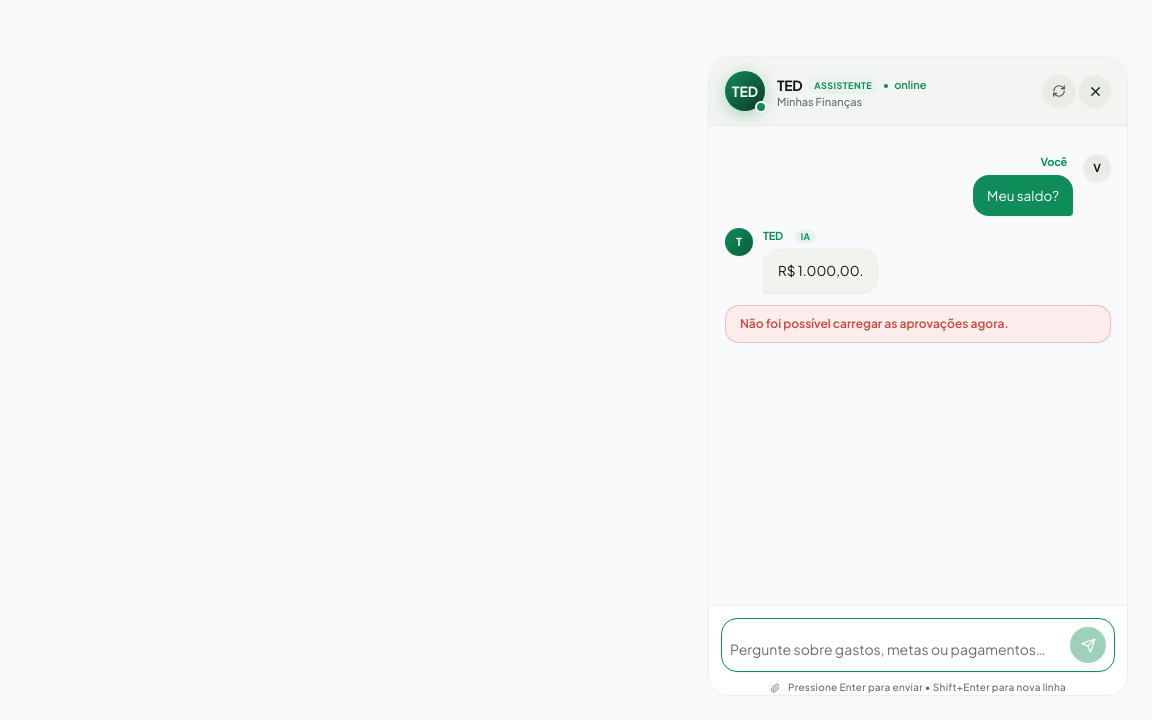
Test: TedChat — sessão renovável e memória (Parte B) › mostra erro seguro quando a renovação falha
Expected: the text "Meu saldo?" is shown, left=987, top=184, right=1059, bottom=206
What coordinates should you click on to do the following:
click the button named "nova sessão"
I would click on:
 (1059, 91)
Its box is left=1043, top=75, right=1075, bottom=107.
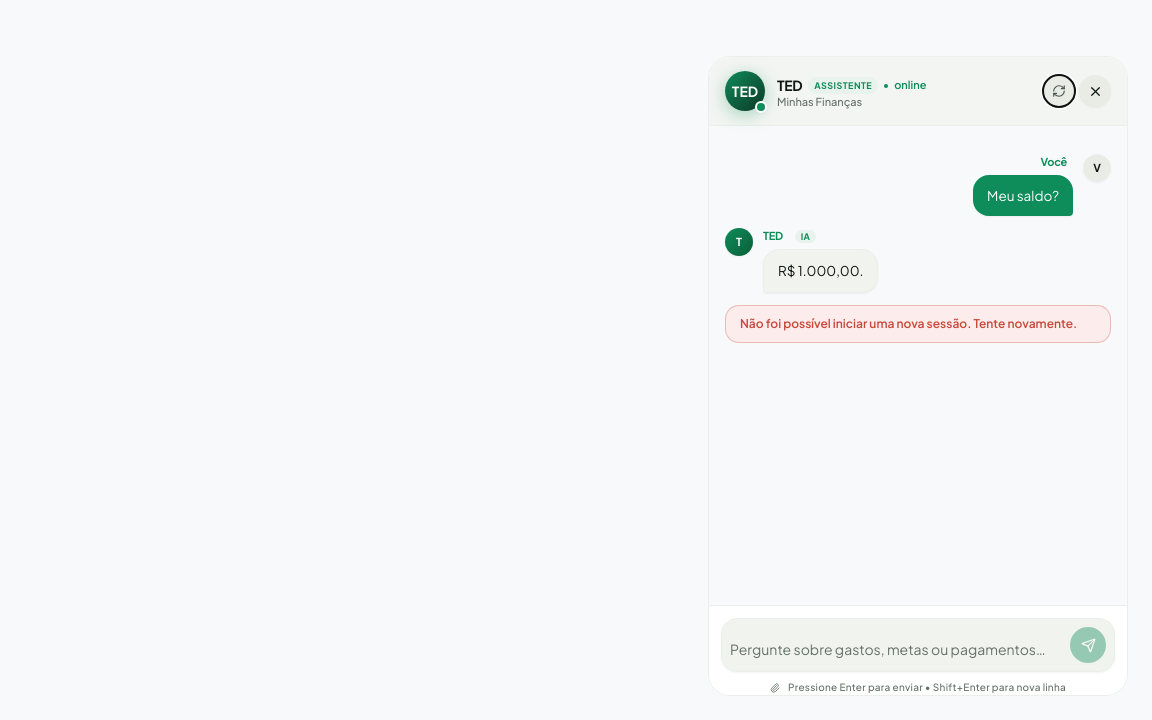
Expected: the message shows "nova sessão", left=740, top=316, right=1077, bottom=331
